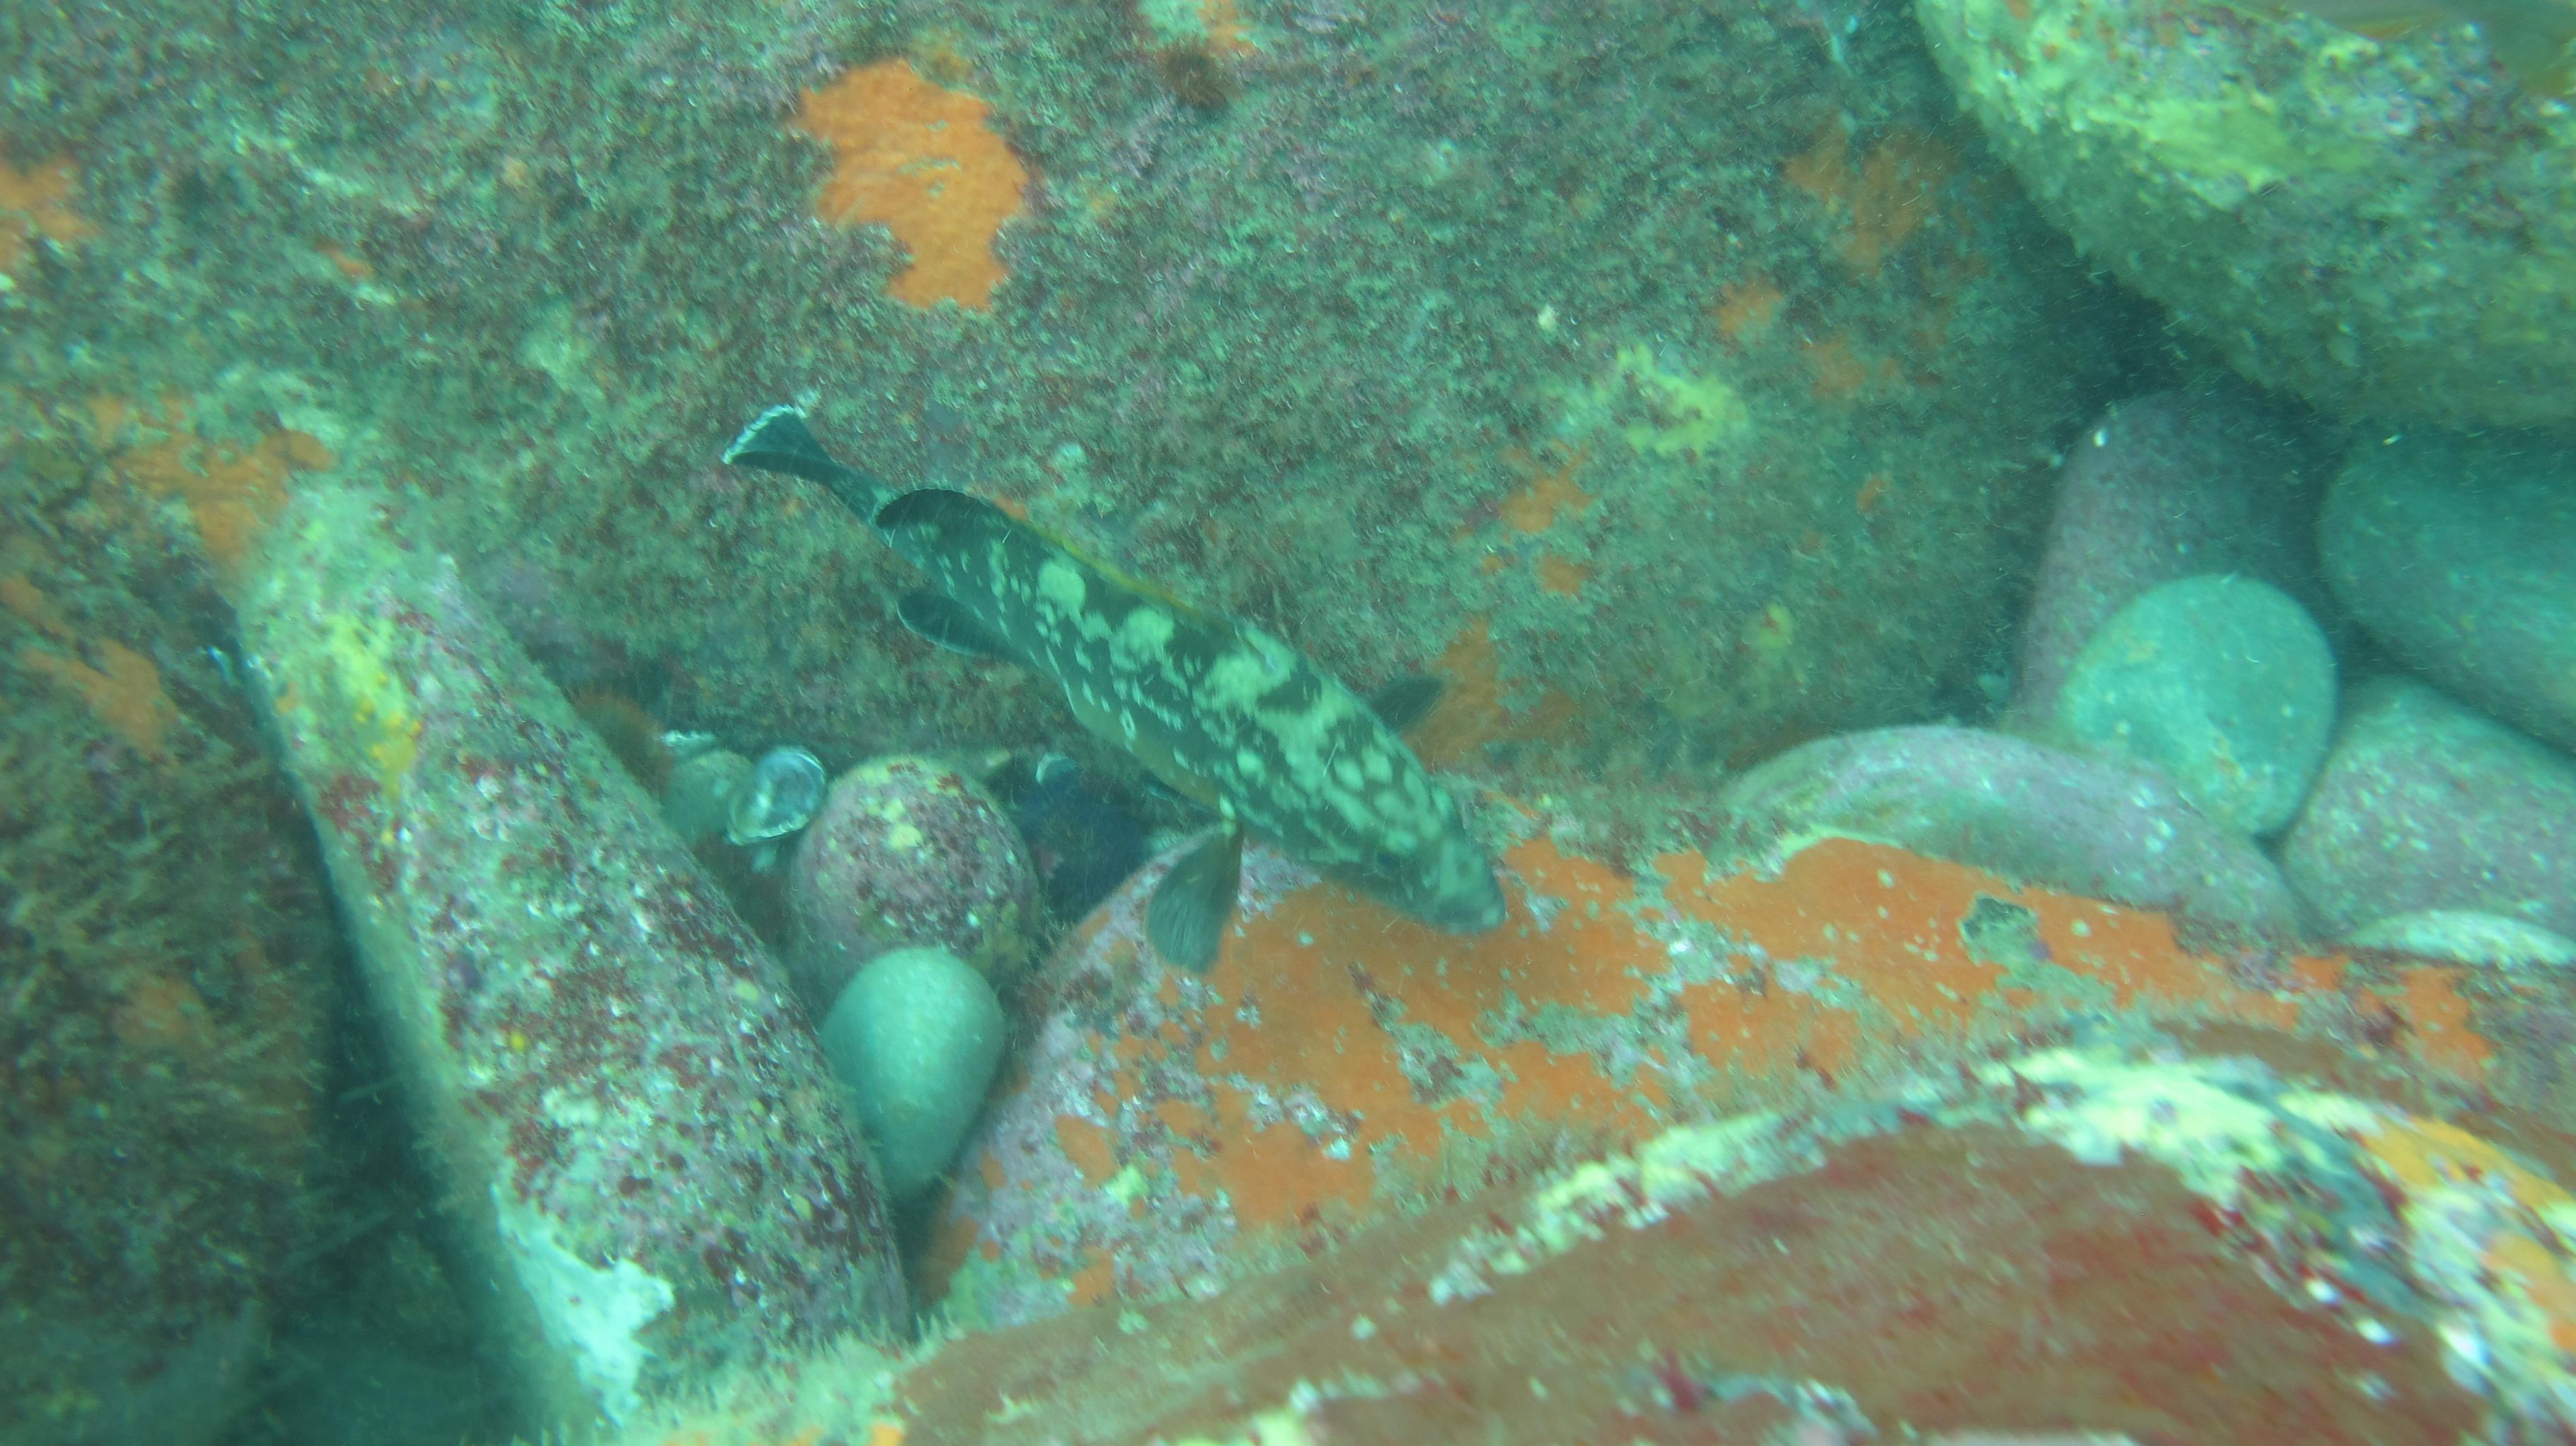Fish: (648, 336, 1596, 1028)
